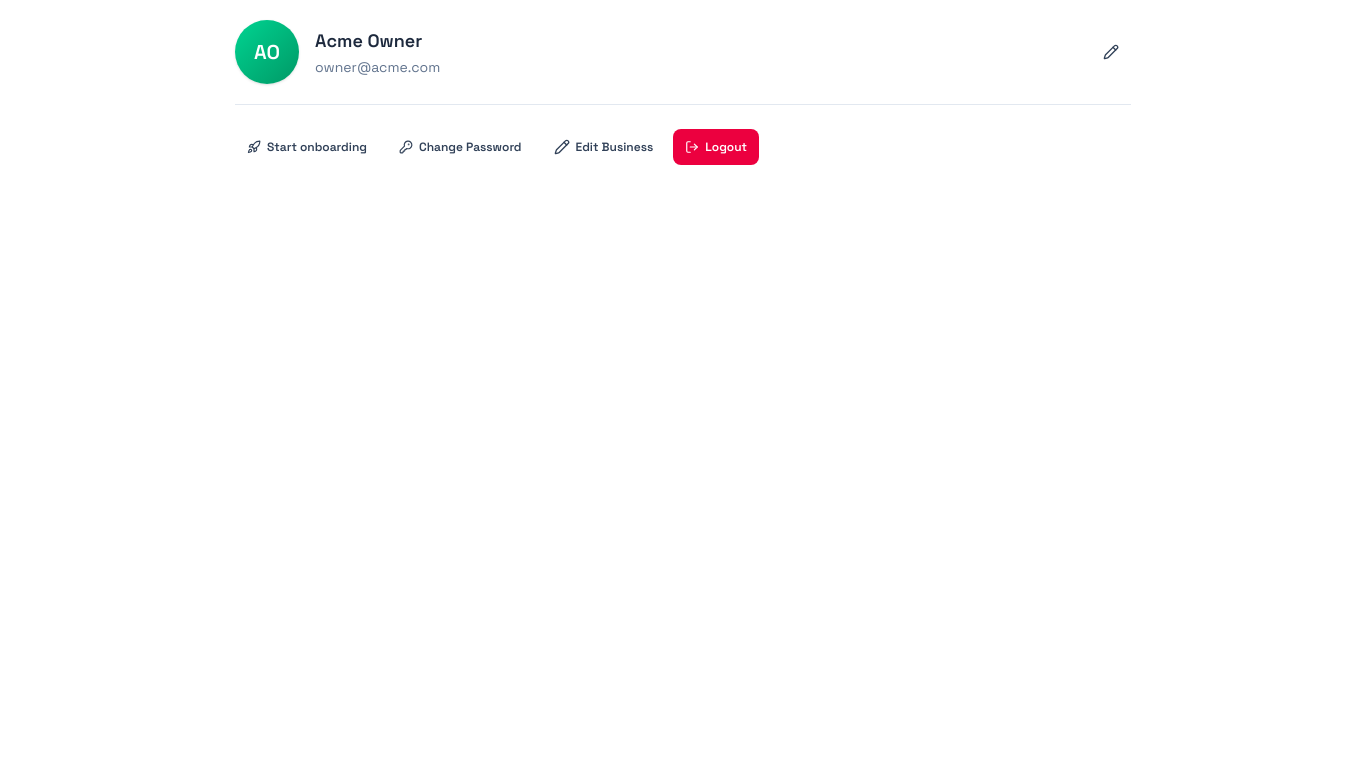
Scenario: ProfilePage Component › closes the modal when Cancel is clicked
This screenshot has width=1366, height=768.
Check: the text "Acme Owner" is shown, box [315,29,422,52]
Click the button named "edit profile" at (1111, 52), box [1091,34,1131,70]
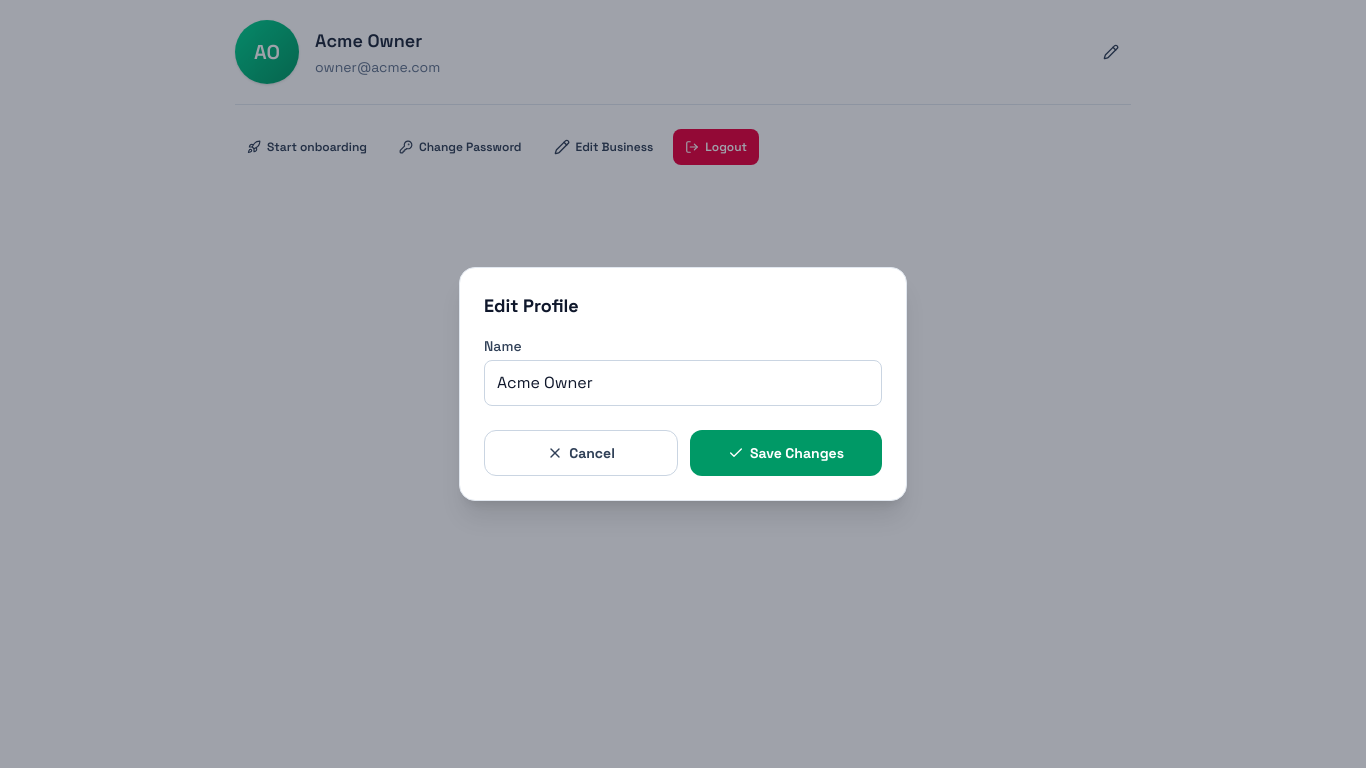
Check: the heading "Edit Profile" is shown, box [484,294,579,317]
Click the button "Cancel" at (581, 453), box [484,430,678,476]
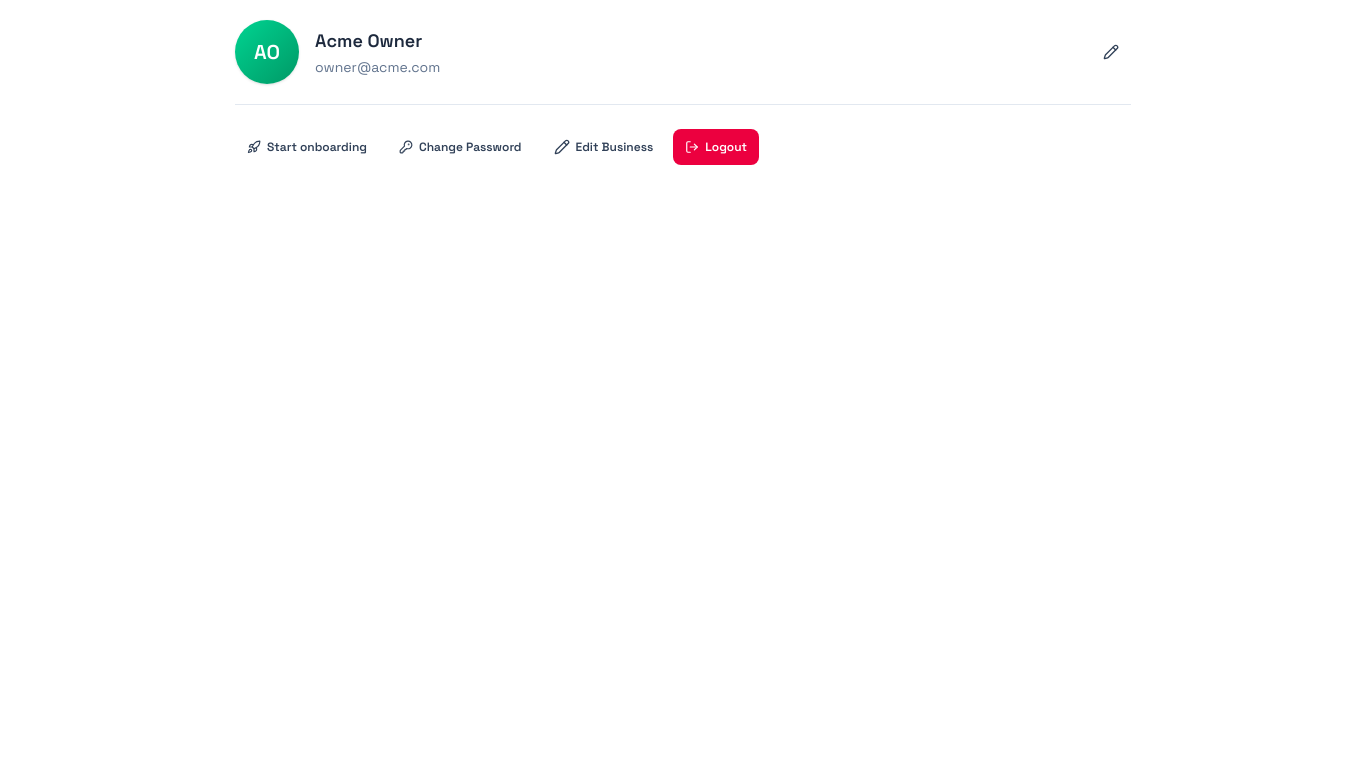
Check: the heading "Edit Profile" is gone
